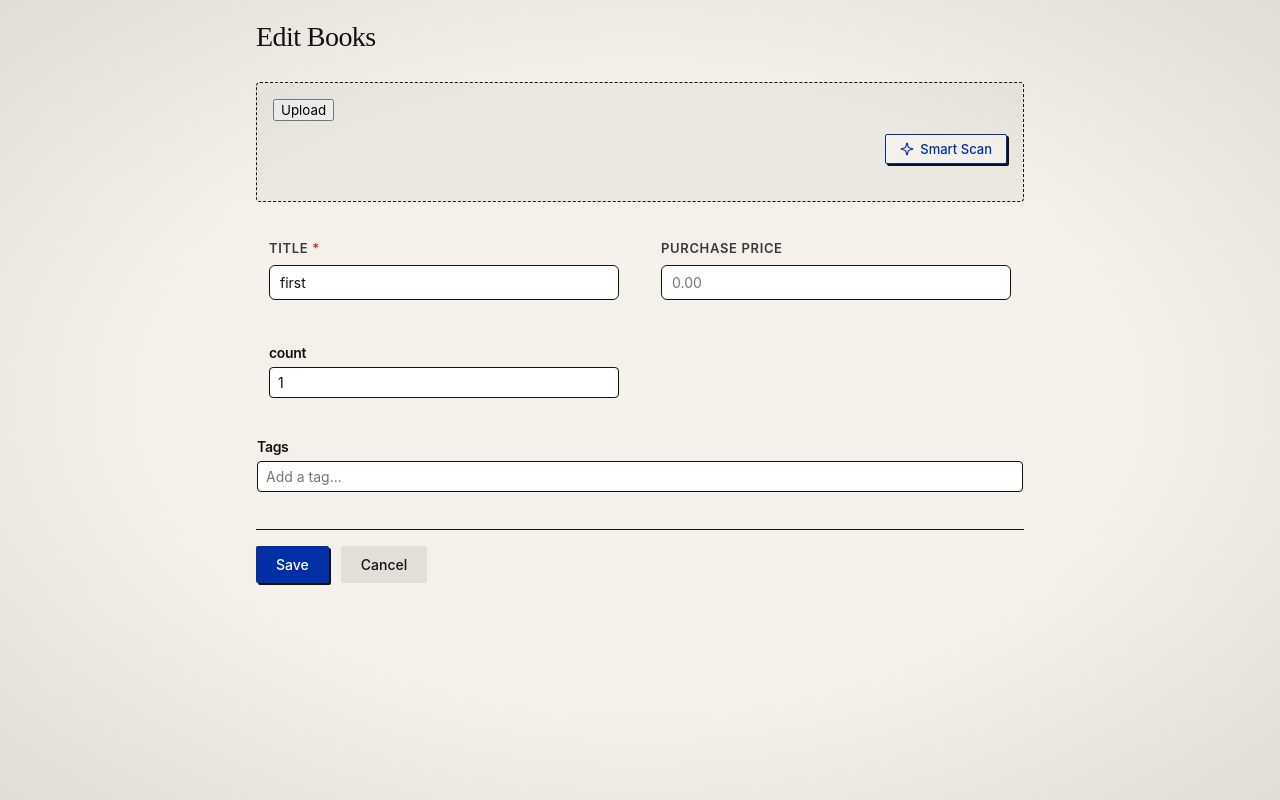
Test: aborts and ignores AI results for a replaced draft
Click the button with class "btn-smart-scan".
click(946, 148)  # box [885,134,1007,164]
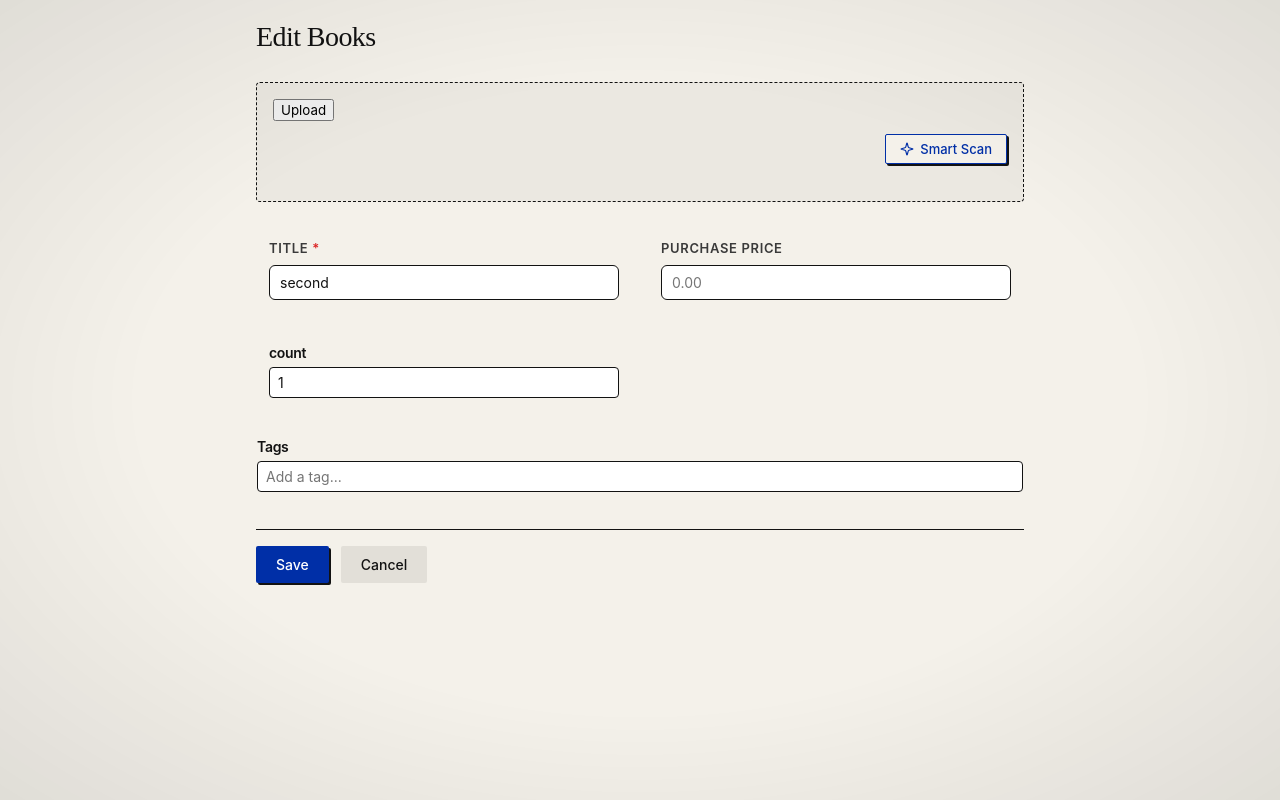
Check: the field with placeholder "Item title" holds "second", box [269,264,619,300]
